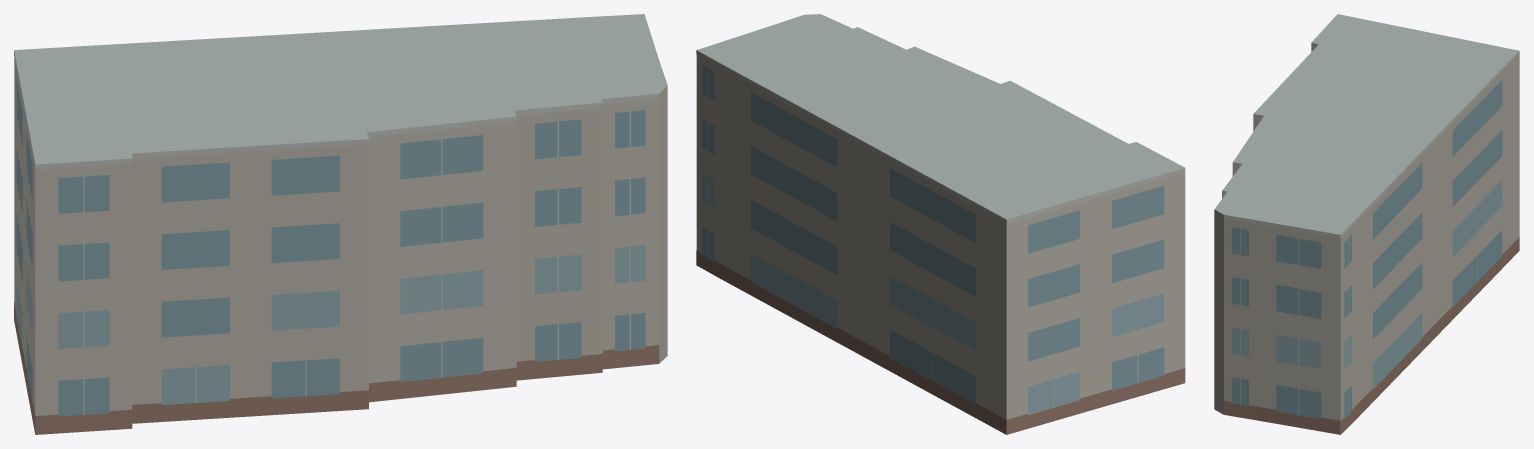
File: survey-upis-33018211.glb
3 renders of one model, left to right at view 1: azimuth 30°, elevation 25°; view 2: azimuth 150°, elevation 25°; view 3: azimuth 270°, elevation 25°, orthographic. The views are drawn at different scales.
Parts seen in each view (by area): view 1: survey-upis-33018211.tmp; view 2: survey-upis-33018211.tmp; view 3: survey-upis-33018211.tmp.
Boxes of the visible parts, x1,y1,x2,y2 form: survey-upis-33018211.tmp: (14,14,667,434); survey-upis-33018211.tmp: (696,14,1185,434); survey-upis-33018211.tmp: (1214,14,1519,434).
Bounding box in the file's own units: 30.31 × 12.8 × 17.7.
